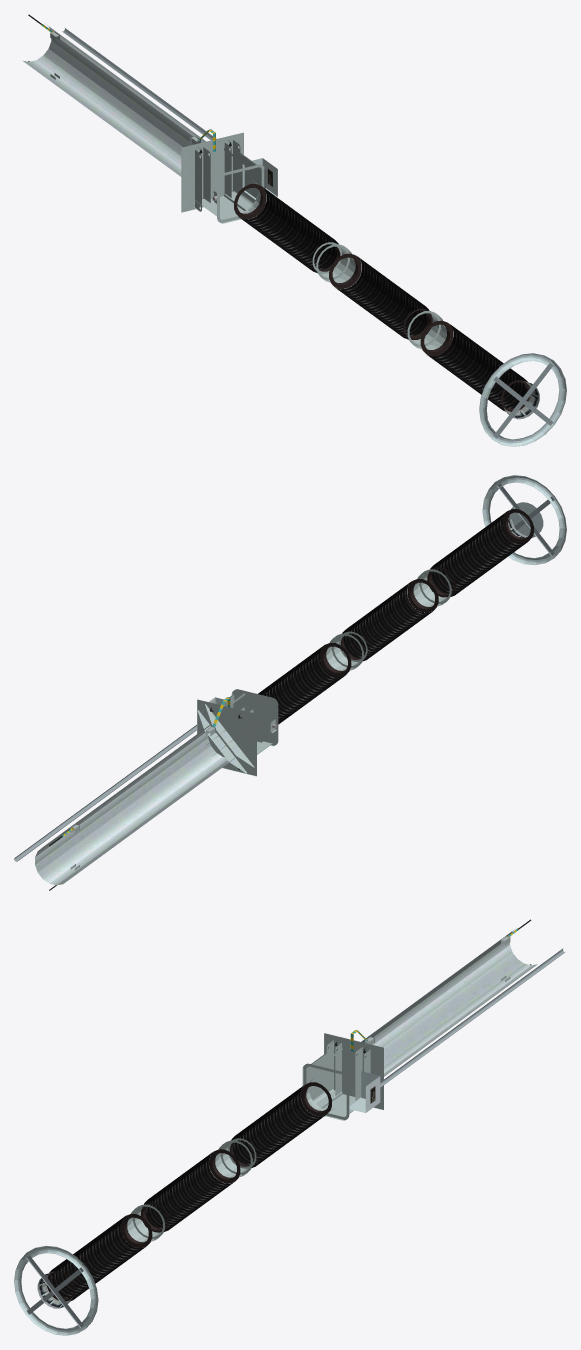
File: pt-11m00000000637493-geode.glb
3 views of the same model, one above another, from view 1: azimuth 30°, elevation 25°; view 2: azimuth 150°, elevation 25°; view 3: azimuth 330°, elevation 25° (orthographic). The views are drawn at different scales.
Visible parts, largest first — view 1: Node; view 2: Node; view 3: Node.
Boxes of the visible parts, x1,y1,x2,y2 form: Node: (22,14,566,446); Node: (14,475,566,890); Node: (14,919,565,1335).
Size of the model in its own units: 0.9094 by 0.9094 by 8.99.
Materials: 13 (13 with a texture image).
